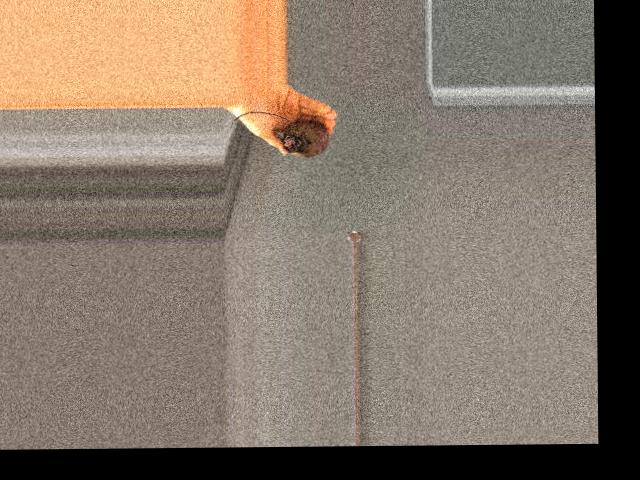beet: (230, 110, 341, 157)
